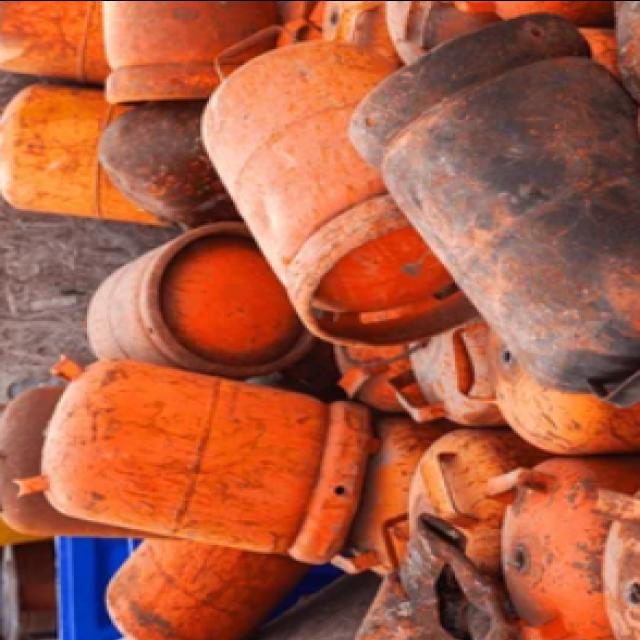cylinder: (347, 13, 638, 408), (201, 24, 482, 346), (10, 354, 370, 563)
